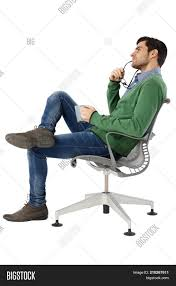sitting: (5, 32, 171, 238)
